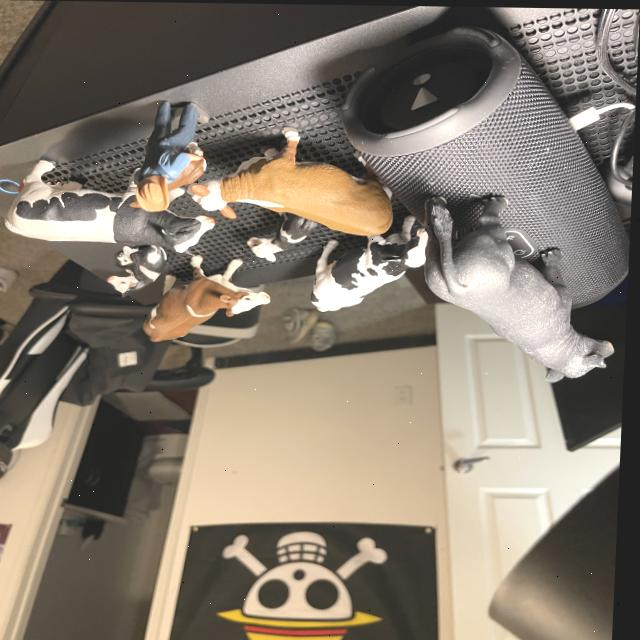cow: (387, 160, 640, 411), (4, 153, 220, 286), (187, 112, 407, 240), (129, 236, 274, 348), (298, 211, 442, 316), (247, 200, 323, 268), (110, 245, 170, 294), (156, 192, 164, 199), (137, 264, 143, 269), (290, 231, 296, 235)
person: (127, 92, 223, 223)
